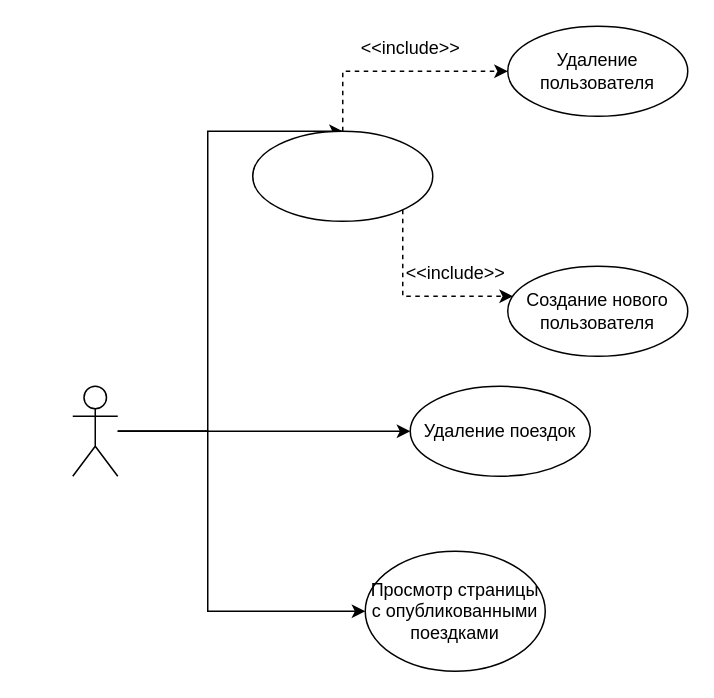
The diagram is 714 pixels wide and 698 high, and some of its shapes have lost their labels. Each missing label, with the centre of its shape:
"Авторизованный пользователь" belongs at point (94, 430).
"Работа с пользователями" belongs at point (342, 175).
